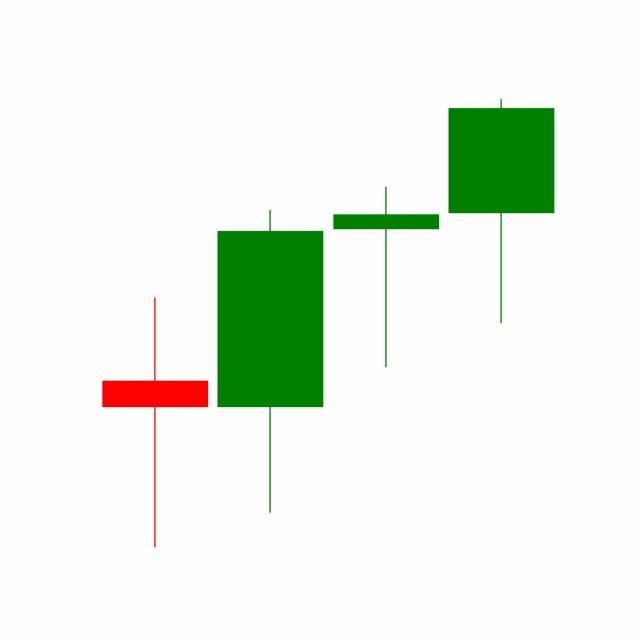Up-Down Gap Side-by-side White Lines: (211, 99, 555, 518)
